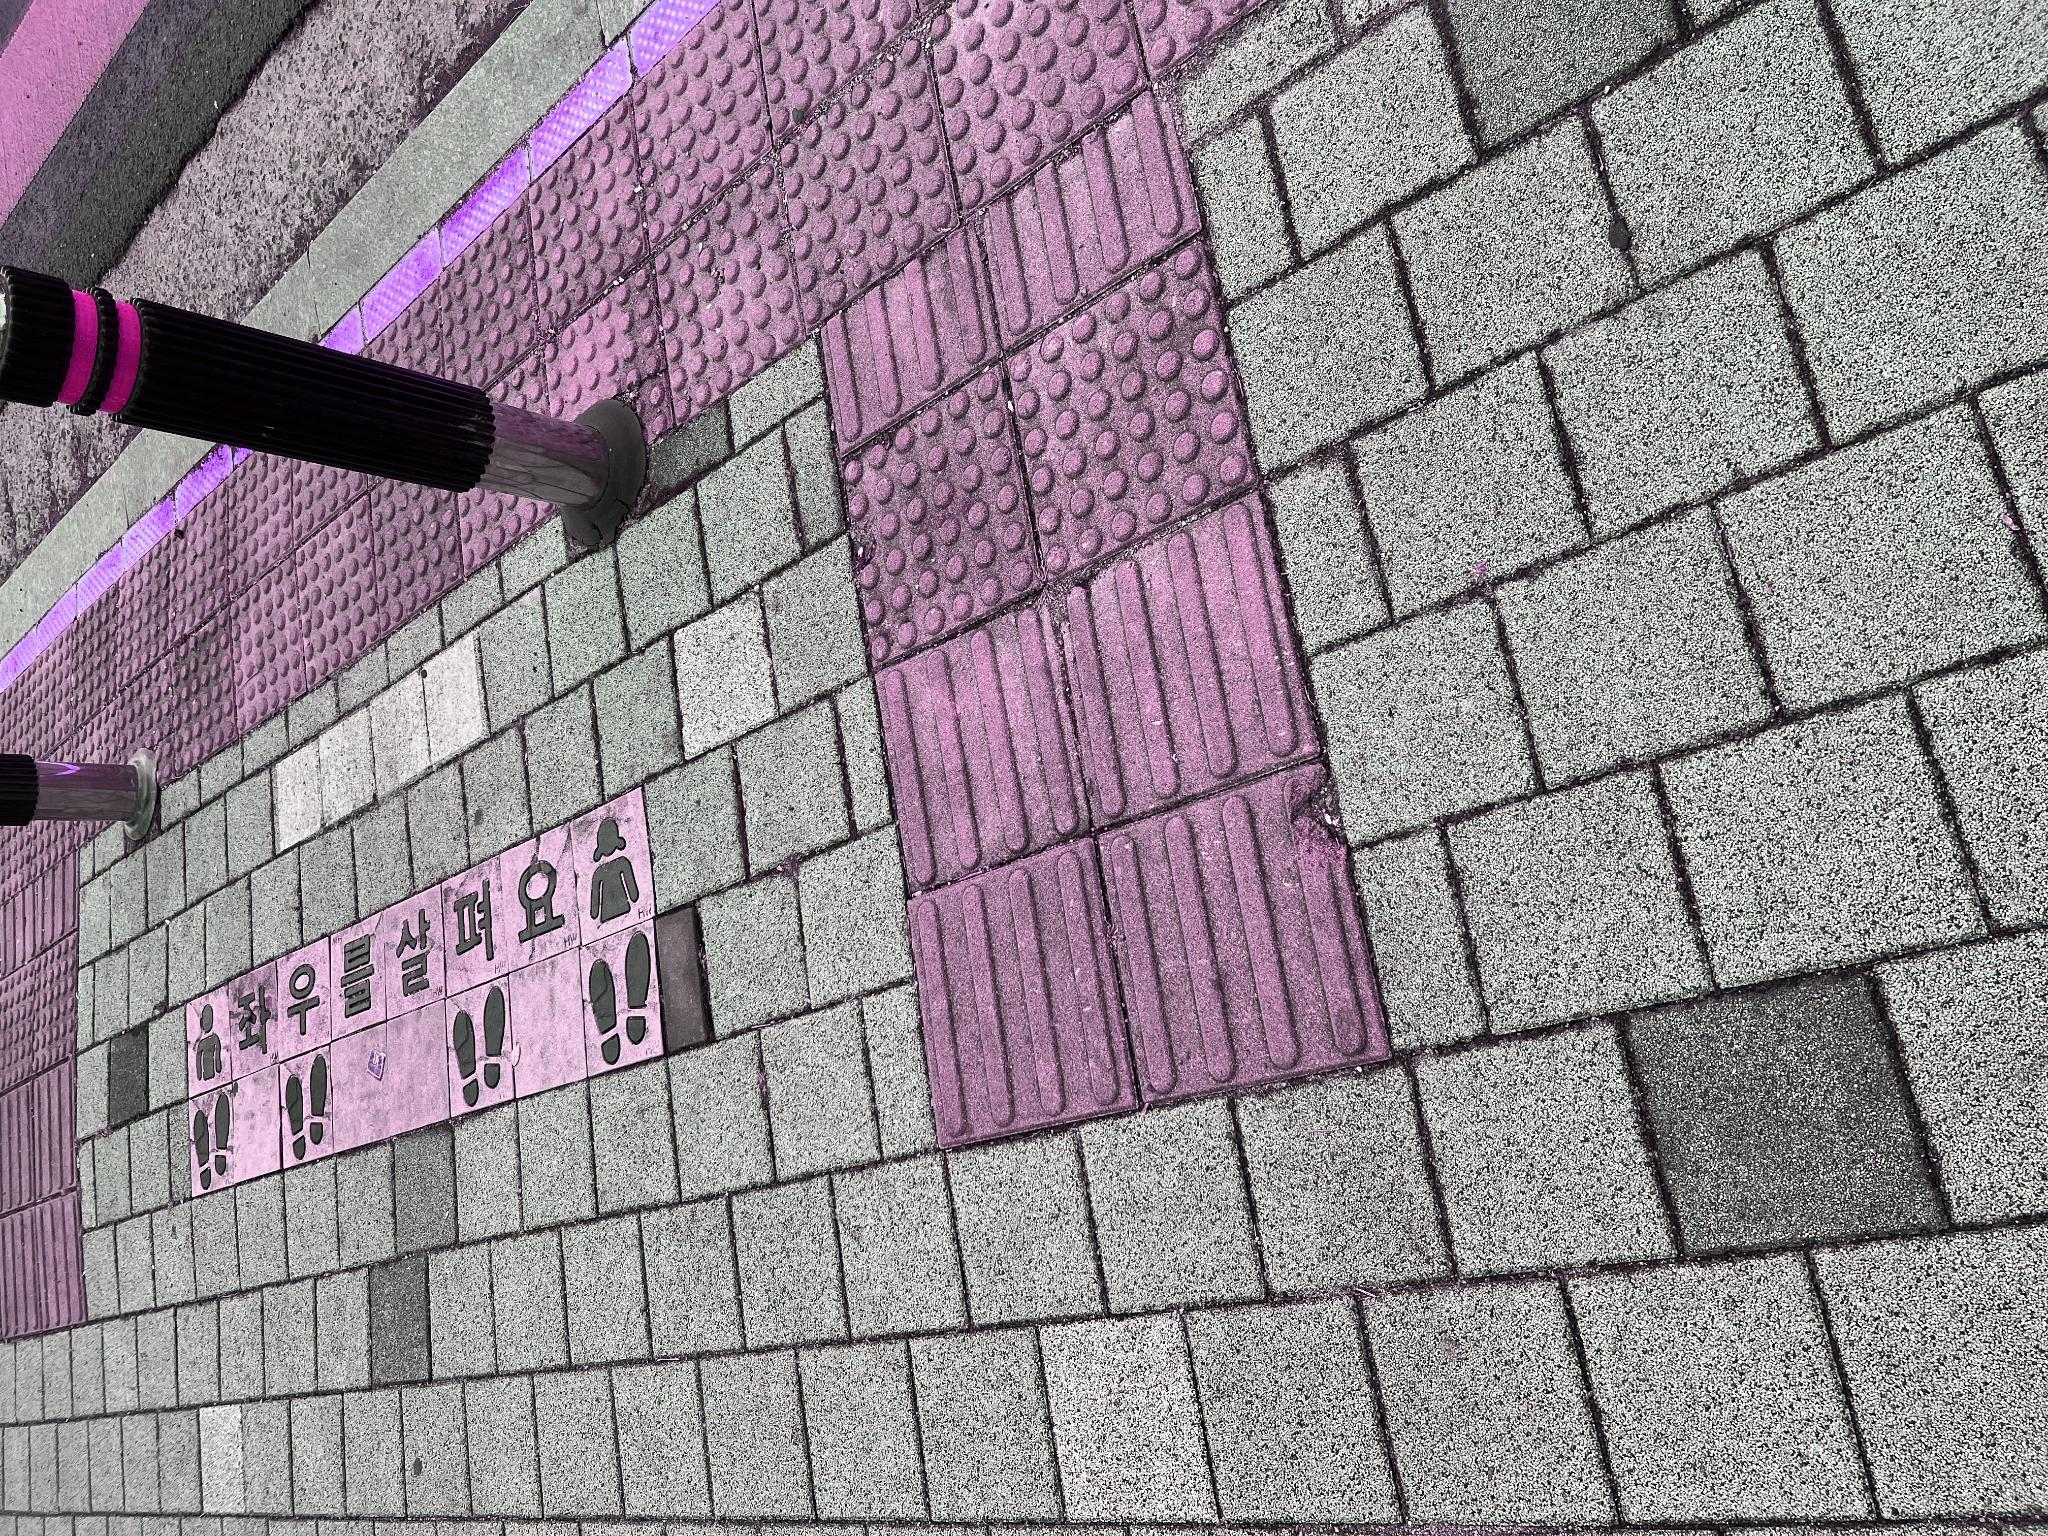Stop block broken: (871, 841, 1172, 1039)
Stop block normal: (956, 1007, 1297, 1254), (1205, 778, 1508, 955), (1113, 653, 1377, 800), (848, 297, 1040, 379), (801, 231, 979, 305), (761, 171, 929, 236)
Straight block broken: (434, 1097, 772, 1386)
Straight block normal: (710, 1058, 1043, 1315), (389, 908, 693, 1131), (645, 876, 943, 1084)
